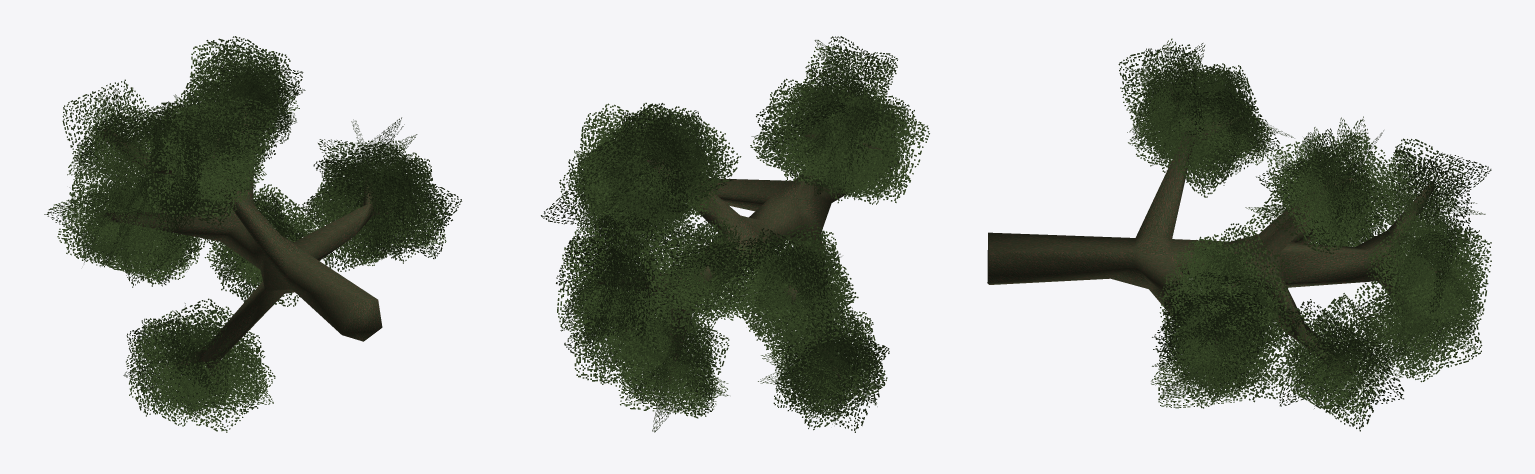
Rendered from SwampTree1Simplified.fbx.
3 renders of one model, left to right at view 1: azimuth 30°, elevation 25°; view 2: azimuth 150°, elevation 25°; view 3: azimuth 270°, elevation 25°, orthographic. The views are drawn at different scales.
Visible parts, largest first — view 1: SwampTree1Simplified; view 2: SwampTree1Simplified; view 3: SwampTree1Simplified.
Part boxes in pixels (x1,y1,x2,y2): SwampTree1Simplified: [44, 36, 461, 432]; SwampTree1Simplified: [541, 36, 929, 432]; SwampTree1Simplified: [987, 38, 1491, 431].
Size of the model in its own units: 4744 by 4741 by 5614.
